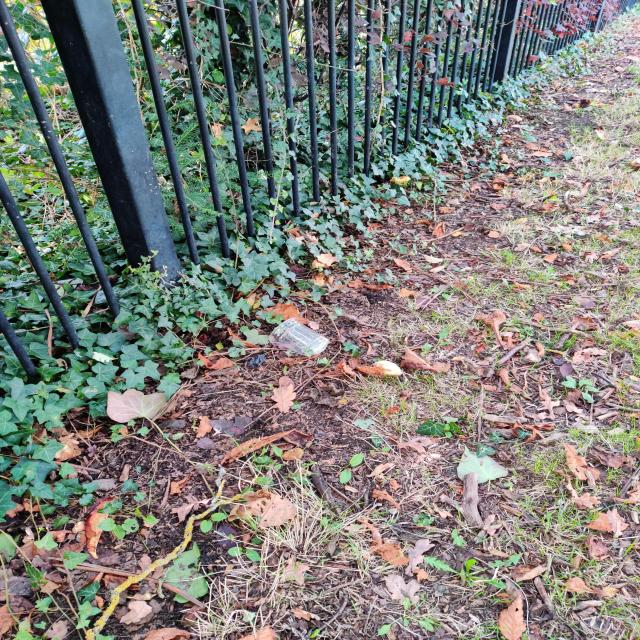litter: (273, 307, 337, 368)
